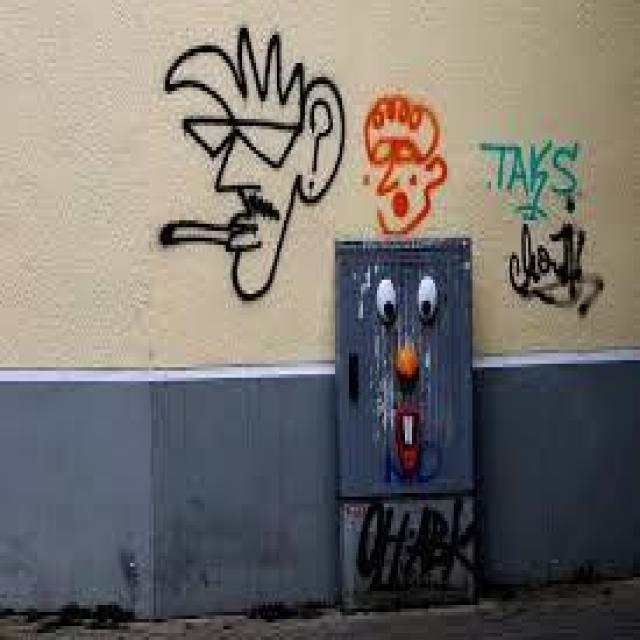nonspitting: (163, 28, 347, 304), (363, 94, 447, 236), (507, 196, 602, 315), (356, 500, 476, 588), (480, 136, 580, 222)
spitting: (374, 276, 436, 473)
